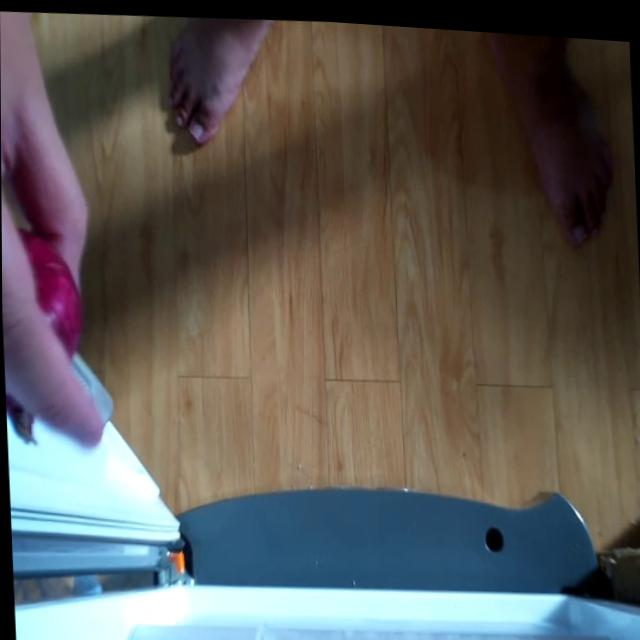onion: (1, 221, 96, 447)
